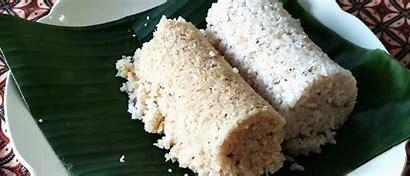Pittu: (132, 2, 366, 163)
